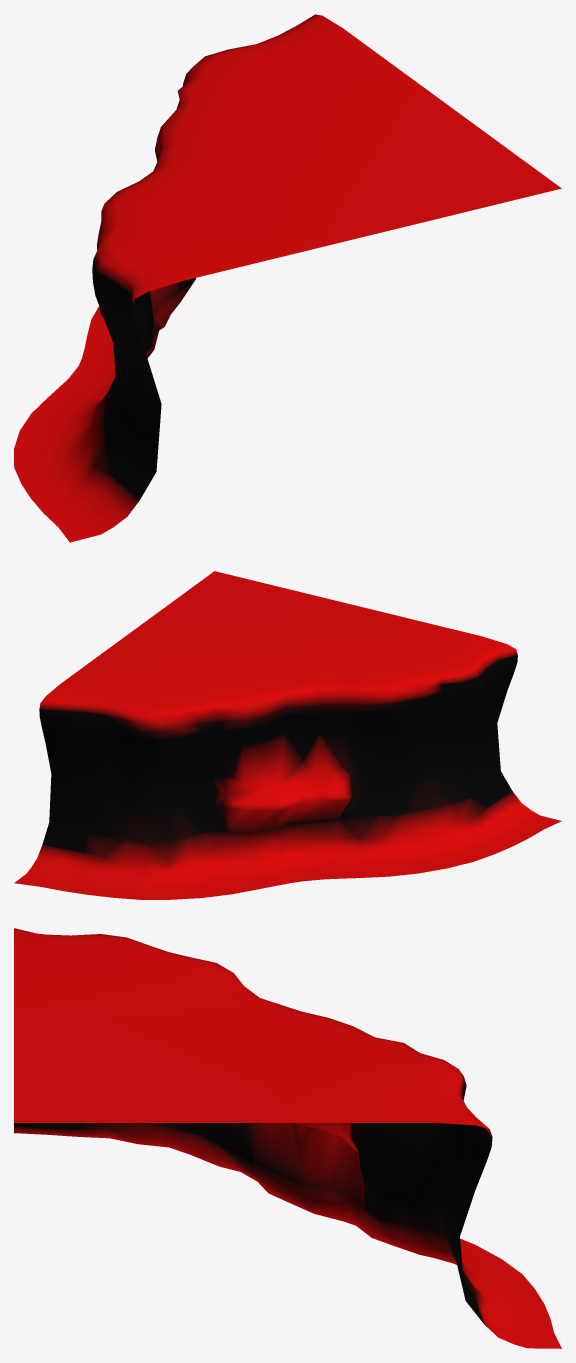
File: GroundCliff03B 1M Background.fbx
3 renders of one model, top to bottom at view 1: azimuth 30°, elevation 25°; view 2: azimuth 150°, elevation 25°; view 3: azimuth 270°, elevation 25°, orthographic. The views are drawn at different scales.
Parts seen in each view (by area): view 1: GroundCliff03B 1M Background; view 2: GroundCliff03B 1M Background; view 3: GroundCliff03B 1M Background.
Part boxes in pixels (<box>): GroundCliff03B 1M Background: <box>14,14,561,542</box>; GroundCliff03B 1M Background: <box>14,571,561,899</box>; GroundCliff03B 1M Background: <box>14,928,561,1348</box>.
Bounding box in the file's own units: 2.2 × 1 × 2.2.
